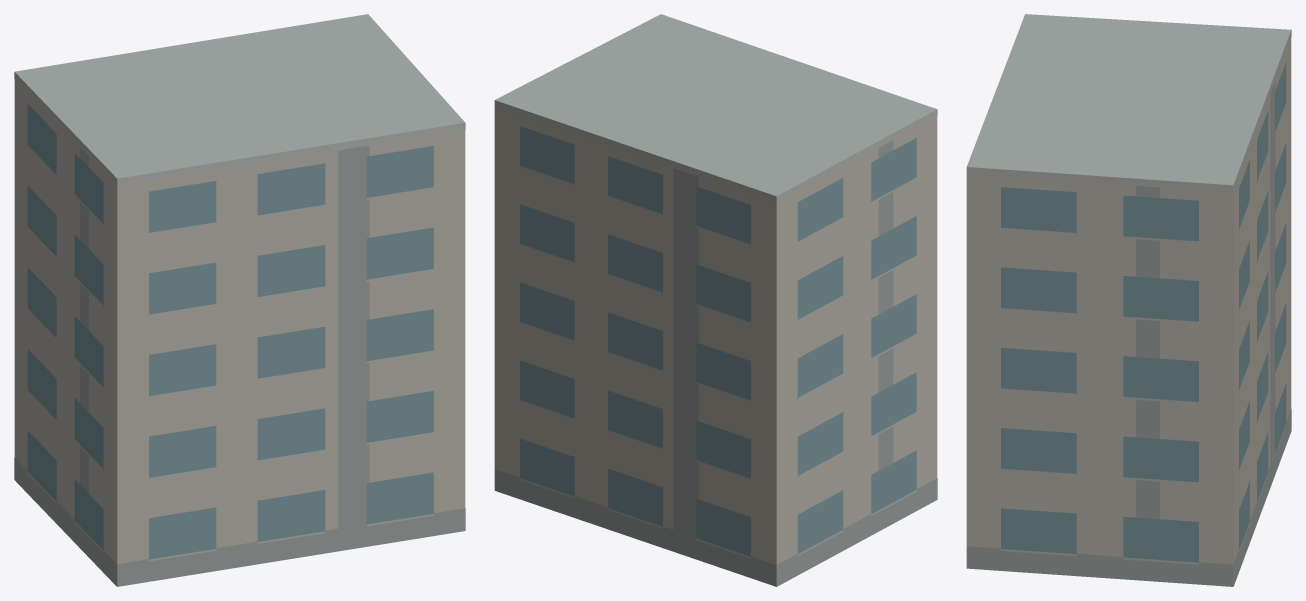
The model's file is survey-upis-32813215.glb.
The picture shows the model from 3 angles, left to right: view 1: azimuth 30°, elevation 25°; view 2: azimuth 150°, elevation 25°; view 3: azimuth 270°, elevation 25°; orthographic projection. The views are drawn at different scales.
Parts seen in each view (by area): view 1: survey-upis-32813215.tmp; view 2: survey-upis-32813215.tmp; view 3: survey-upis-32813215.tmp.
Boxes of the visible parts, left/top/right/bottom form: survey-upis-32813215.tmp: left=14, top=14, right=465, bottom=586; survey-upis-32813215.tmp: left=494, top=14, right=937, bottom=586; survey-upis-32813215.tmp: left=966, top=14, right=1291, bottom=586.
Size of the model in its own units: 12.36 by 13.5 by 9.9.
